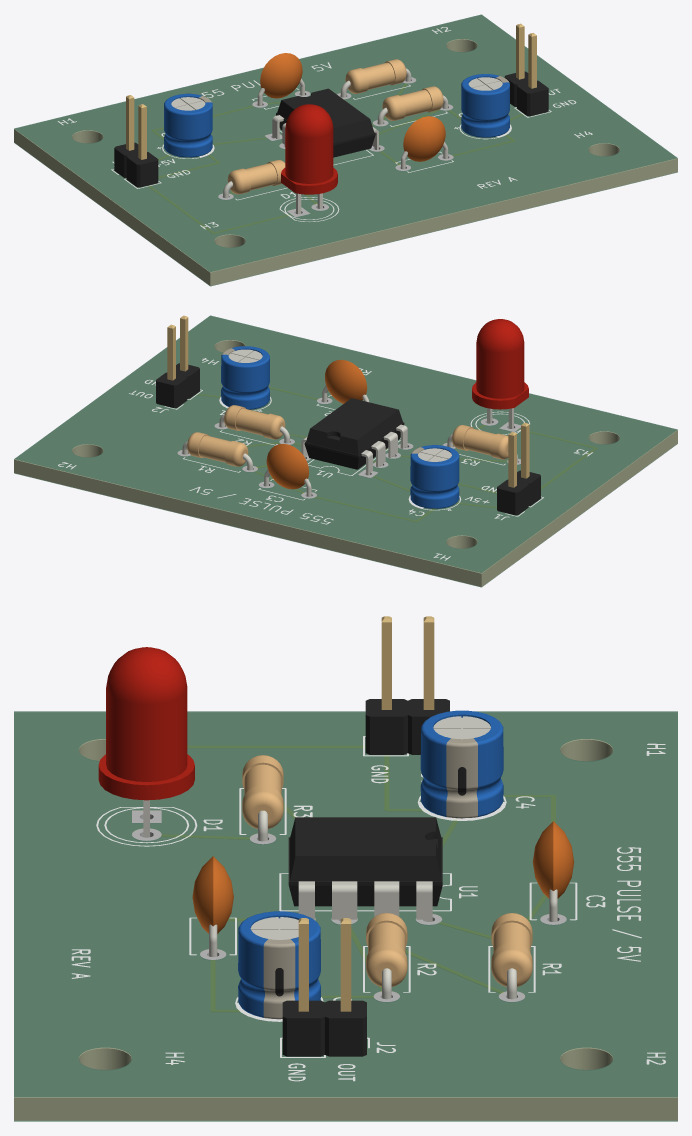
Rendered from 555-assembly.glb.
The picture shows the model from 3 angles, top to bottom: view 1: azimuth 30°, elevation 25°; view 2: azimuth 150°, elevation 25°; view 3: azimuth 270°, elevation 25°; orthographic projection. The views are drawn at different scales.
Parts seen in each view (by area): view 1: =>[0:1:1:20], =>[0:1:1:18], =>[0:1:1:9] (×2), =>[0:1:1:7] (×2), =>[0:1:1:5] (×3), =>[0:1:1:13], =>[0:1:1:3] (×2), =>[0:1:1:11], =>[0:1:1:17], =>[0:1:1:15], =>[0:1:1:19], =>[0:1:1:14]; view 2: =>[0:1:1:20], =>[0:1:1:18], =>[0:1:1:9] (×2), =>[0:1:1:11], =>[0:1:1:7] (×2), =>[0:1:1:5] (×3), =>[0:1:1:13], =>[0:1:1:3] (×2), =>[0:1:1:17], =>[0:1:1:15], =>[0:1:1:19], =>[0:1:1:14]; view 3: =>[0:1:1:20], =>[0:1:1:18], =>[0:1:1:9] (×2), =>[0:1:1:11], =>[0:1:1:13], =>[0:1:1:7] (×2), =>[0:1:1:5] (×3), =>[0:1:1:17], =>[0:1:1:3] (×2), =>[0:1:1:14], =>[0:1:1:15], =>[0:1:1:19].
Boxes of the visible parts, left/top/right/bottom form: =>[0:1:1:20]: left=14, top=15, right=677, bottom=285; =>[0:1:1:18]: left=14, top=14, right=677, bottom=271; =>[0:1:1:9] (×2): left=164, top=74, right=509, bottom=157; =>[0:1:1:7] (×2): left=114, top=23, right=548, bottom=187; =>[0:1:1:5] (×3): left=223, top=59, right=448, bottom=198; =>[0:1:1:13]: left=281, top=104, right=337, bottom=214; =>[0:1:1:3] (×2): left=257, top=53, right=448, bottom=169; =>[0:1:1:11]: left=272, top=88, right=378, bottom=157; =>[0:1:1:17]: left=57, top=27, right=592, bottom=229; =>[0:1:1:15]: left=218, top=77, right=453, bottom=217; =>[0:1:1:19]: left=14, top=142, right=677, bottom=286; =>[0:1:1:14]: left=149, top=84, right=522, bottom=233; =>[0:1:1:20]: left=14, top=316, right=677, bottom=586; =>[0:1:1:18]: left=14, top=315, right=677, bottom=572; =>[0:1:1:9] (×2): left=221, top=346, right=459, bottom=508; =>[0:1:1:11]: left=301, top=398, right=407, bottom=475; =>[0:1:1:7] (×2): left=156, top=315, right=540, bottom=515; =>[0:1:1:5] (×3): left=182, top=405, right=517, bottom=470; =>[0:1:1:13]: left=472, top=319, right=528, bottom=428; =>[0:1:1:3] (×2): left=264, top=359, right=369, bottom=496; =>[0:1:1:17]: left=58, top=358, right=592, bottom=560; =>[0:1:1:15]: left=177, top=398, right=520, bottom=498; =>[0:1:1:19]: left=14, top=443, right=677, bottom=587; =>[0:1:1:14]: left=198, top=387, right=596, bottom=521; =>[0:1:1:20]: left=14, top=713, right=677, bottom=1120; =>[0:1:1:18]: left=14, top=711, right=677, bottom=1097; =>[0:1:1:9] (×2): left=238, top=710, right=503, bottom=1019; =>[0:1:1:11]: left=288, top=817, right=442, bottom=921; =>[0:1:1:13]: left=98, top=647, right=194, bottom=837; =>[0:1:1:7] (×2): left=282, top=616, right=449, bottom=1056; =>[0:1:1:5] (×3): left=242, top=755, right=532, bottom=999; =>[0:1:1:17]: left=71, top=736, right=665, bottom=1081; =>[0:1:1:3] (×2): left=192, top=821, right=574, bottom=956; =>[0:1:1:14]: left=162, top=746, right=555, bottom=1011; =>[0:1:1:15]: left=132, top=810, right=566, bottom=1001; =>[0:1:1:19]: left=14, top=1120, right=677, bottom=1121.
Size of the model in its own units: 0.055 by 0.0149 by 0.04.
